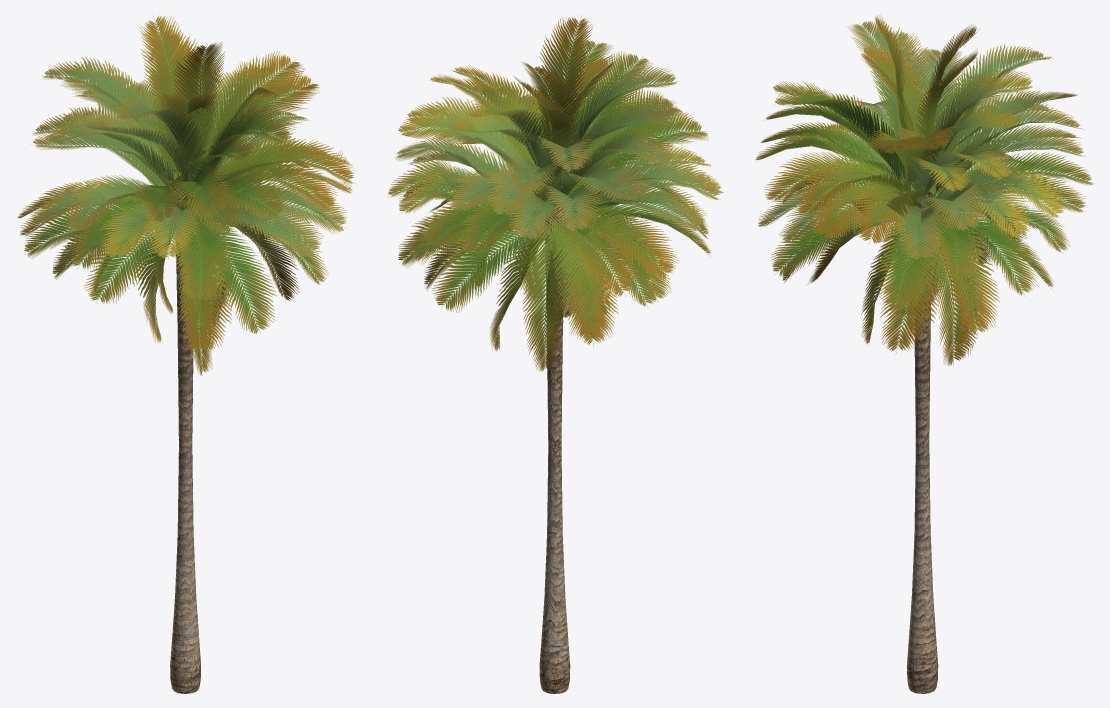
The model's file is coast_arabic_palm.glb.
3 renders of one model, left to right at view 1: azimuth 30°, elevation 25°; view 2: azimuth 150°, elevation 25°; view 3: azimuth 270°, elevation 25°, orthographic.
Parts seen in each view (by area): view 1: PALM; view 2: PALM; view 3: PALM.
Boxes of the visible parts, x1,y1,x2,y2 form: PALM: (17, 16, 353, 693); PALM: (388, 15, 723, 693); PALM: (755, 15, 1094, 693).
Bounding box in the file's own units: 205 × 434 × 200.
Materials: 2 (2 with a texture image).
